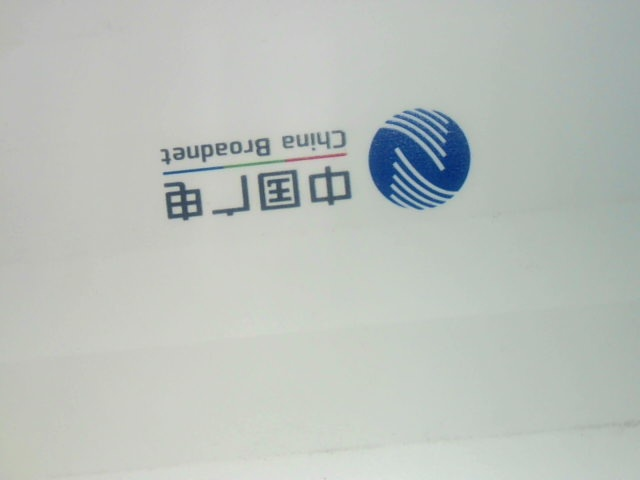AW_ChinaBroadNet: (152, 99, 487, 224)
